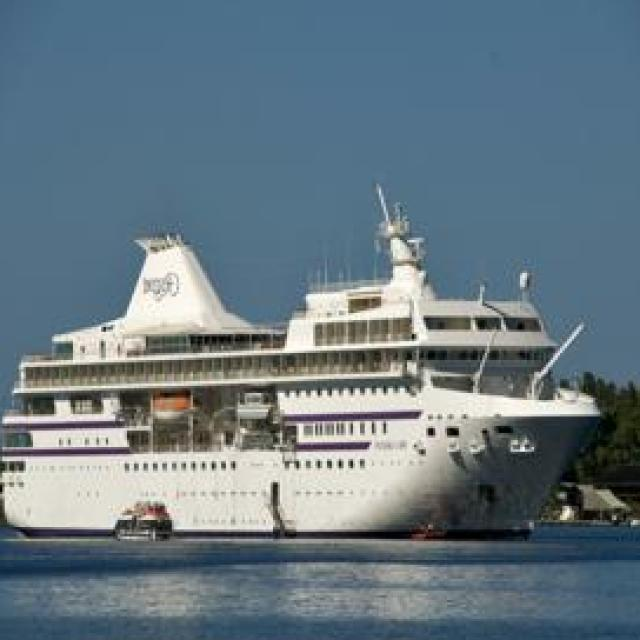passenger ship: (0, 184, 605, 567)
